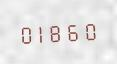eight: (50, 20, 65, 43)
one: (34, 21, 49, 44)
six: (66, 19, 81, 42)
zero: (18, 22, 33, 45), (82, 18, 97, 41)
